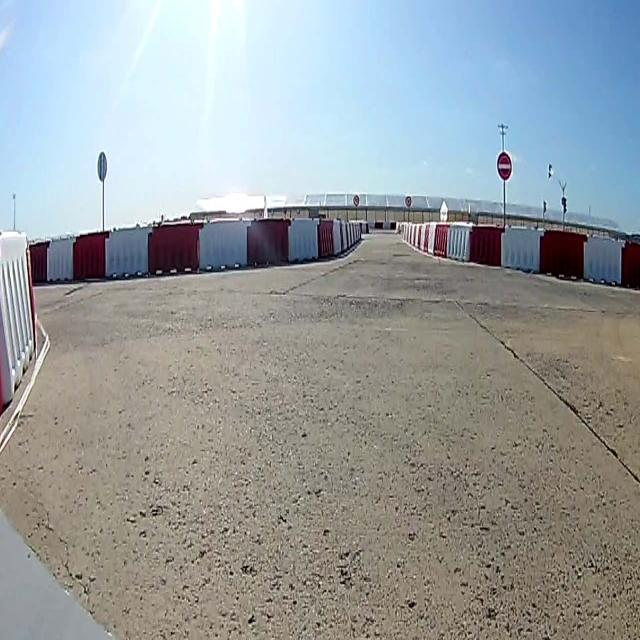girisyok: (496, 149, 515, 183)
